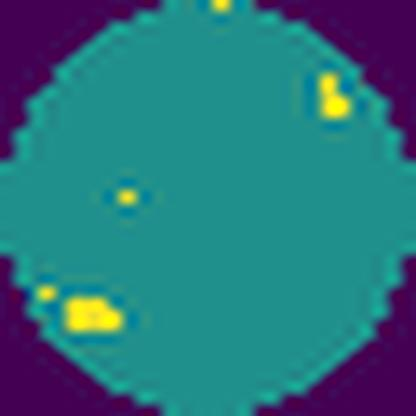Loc: (306, 70, 355, 134), (59, 292, 130, 336)
